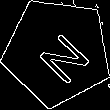N_NW: (26, 20, 89, 83)
